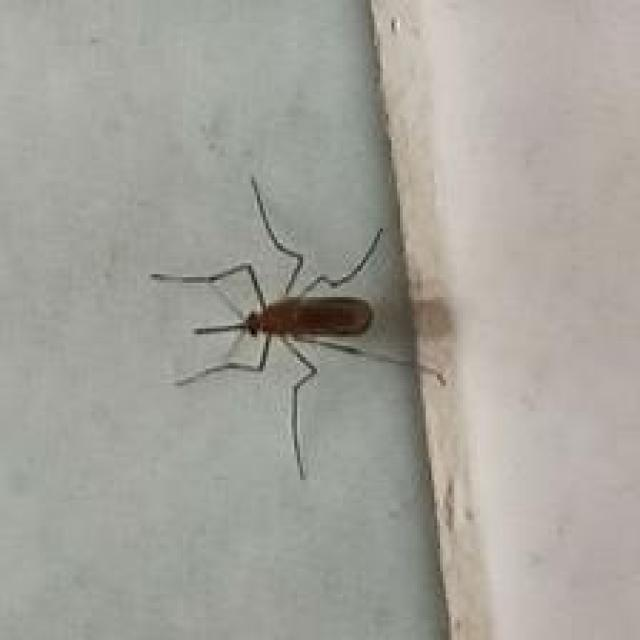Culex: (148, 174, 446, 480)
